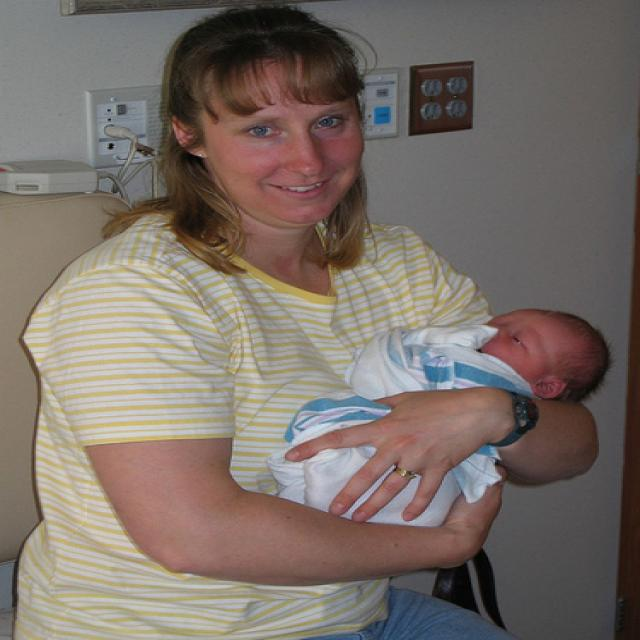person: (22, 6, 517, 640), (284, 307, 605, 527)
